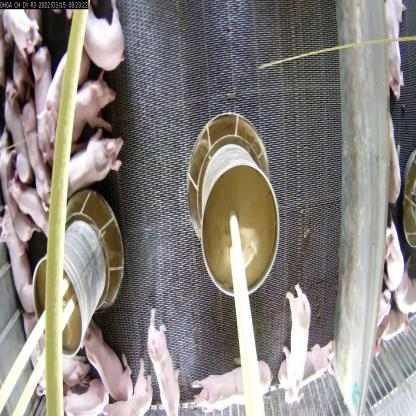Pig: (52, 131, 131, 209), (43, 53, 98, 151), (276, 279, 314, 415), (193, 356, 270, 416), (74, 327, 131, 408), (62, 0, 129, 68), (276, 327, 336, 398), (17, 105, 54, 219), (24, 44, 60, 158), (49, 74, 118, 132), (145, 313, 184, 415), (0, 208, 37, 304), (104, 357, 165, 415), (7, 174, 50, 245)
